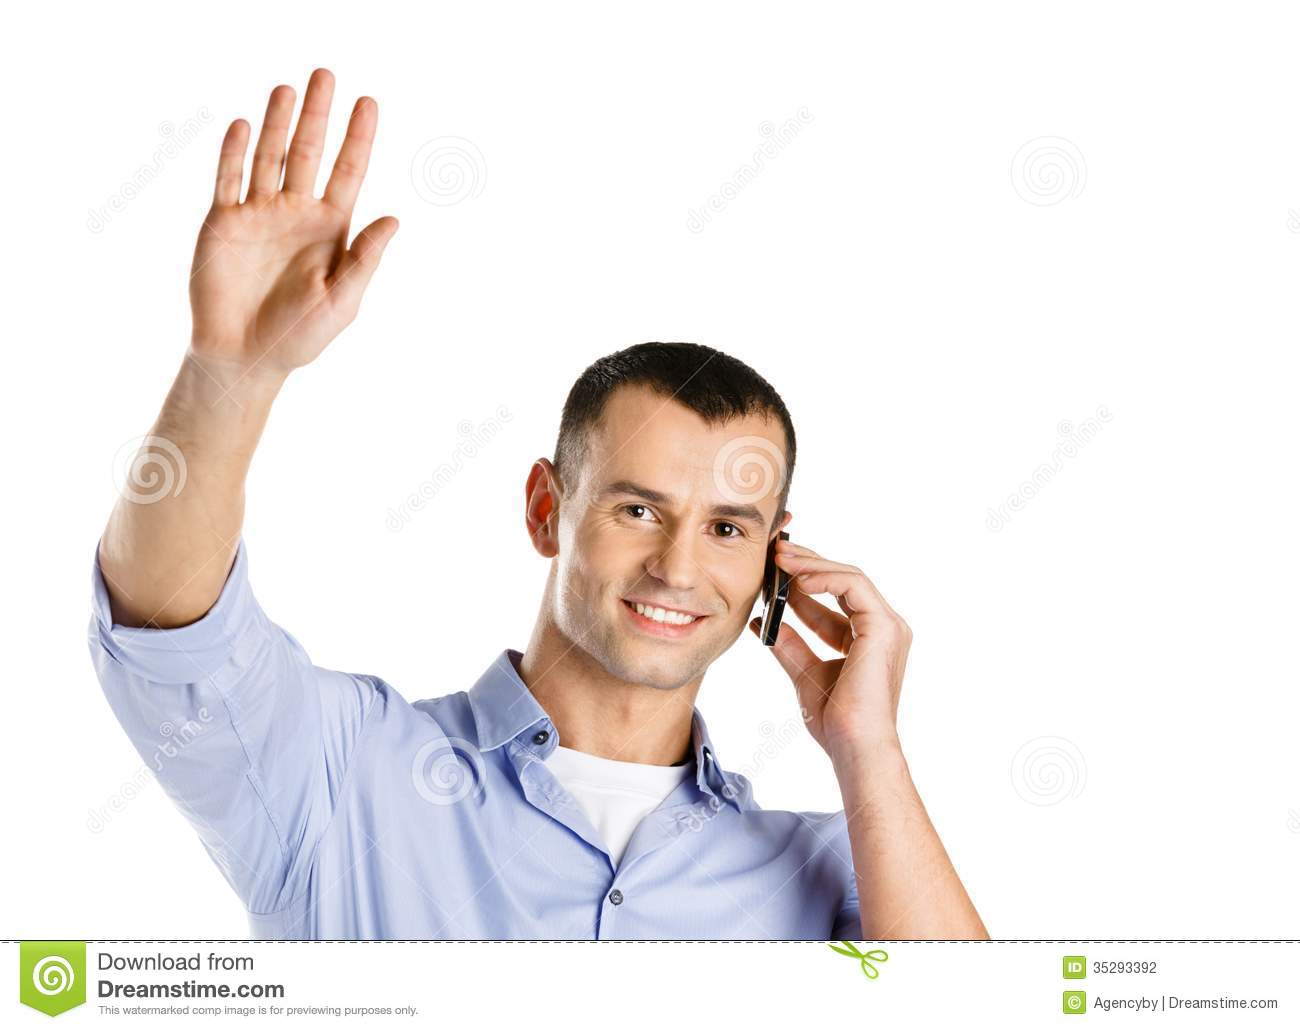open_hand: (159, 59, 458, 389)
